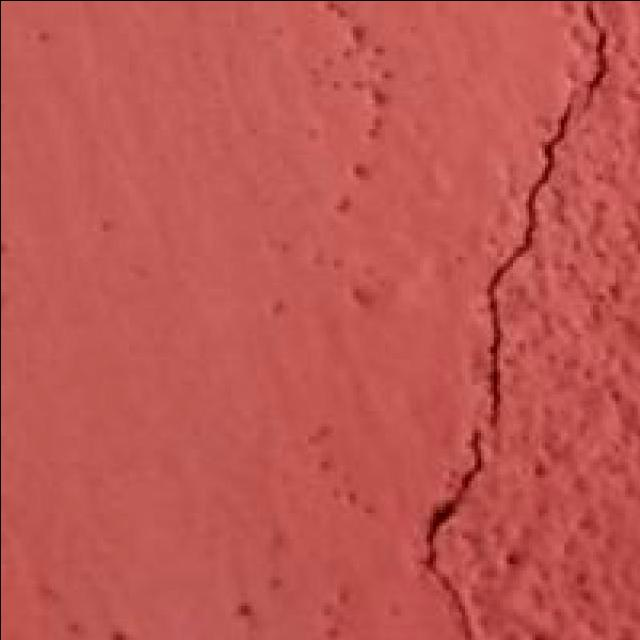SurfaceCrack: (404, 0, 608, 640)
